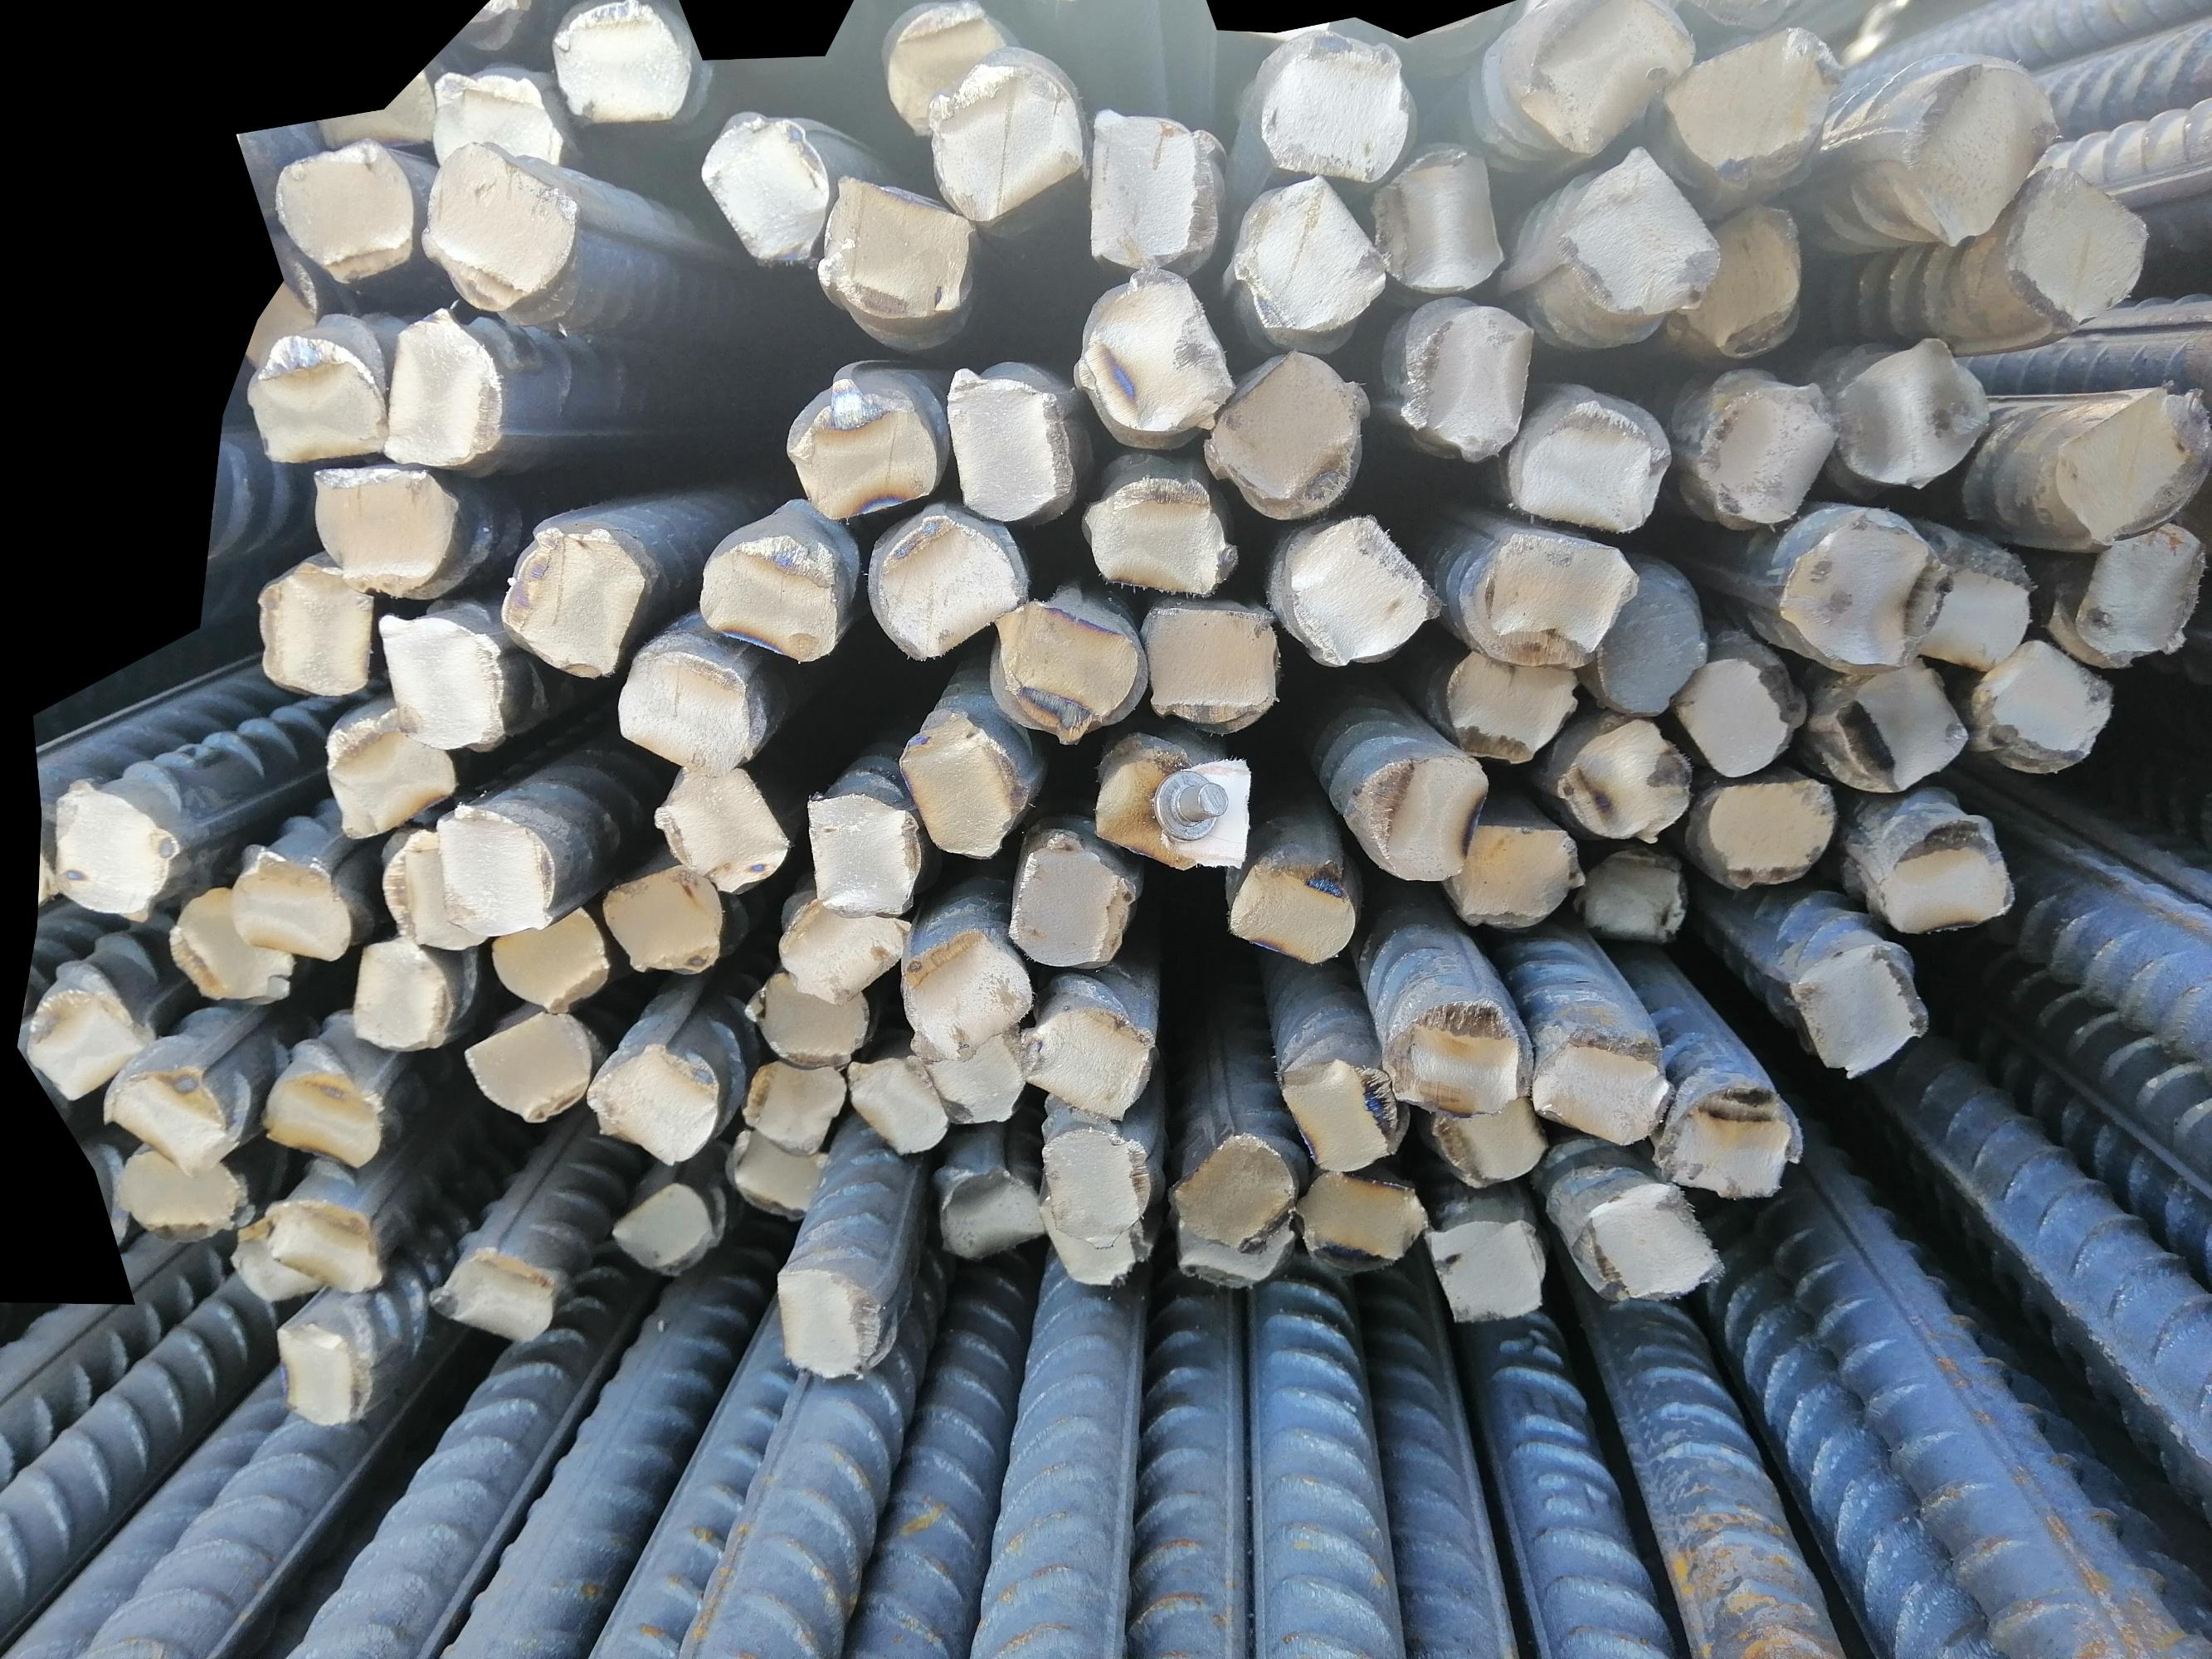bar: (1895, 52, 2069, 251), (1490, 2, 1708, 159), (1536, 143, 1720, 326), (1762, 498, 1954, 674), (1665, 14, 1851, 188), (1203, 350, 1372, 525), (1072, 265, 1234, 446), (415, 141, 577, 319), (1227, 174, 1393, 343), (929, 47, 1089, 220), (1830, 333, 2005, 491), (811, 173, 981, 333), (1246, 24, 1417, 183), (872, 500, 1030, 666), (2053, 378, 2210, 544), (1276, 514, 1445, 664), (1778, 932, 1942, 1086), (1496, 394, 1670, 535), (2005, 159, 2149, 328), (1468, 525, 1637, 666), (1693, 375, 1839, 537), (992, 589, 1143, 744), (1672, 197, 1813, 361), (1403, 296, 1539, 464), (497, 519, 643, 674), (695, 110, 838, 268), (305, 462, 464, 605), (370, 303, 507, 467), (788, 376, 945, 519), (899, 701, 1035, 864), (1081, 106, 1215, 272), (275, 131, 415, 289), (615, 631, 765, 777), (1333, 742, 1489, 884), (366, 599, 507, 753), (1811, 660, 1971, 795), (943, 359, 1072, 525), (1006, 814, 1142, 969), (699, 528, 847, 669), (1867, 809, 2020, 943), (1077, 465, 1236, 594), (2071, 518, 2210, 664), (1135, 596, 1283, 732), (1909, 523, 2034, 683), (1374, 139, 1506, 291), (1569, 1183, 1726, 1309), (1672, 638, 1811, 777), (1975, 638, 2114, 777), (246, 329, 387, 467), (1656, 1070, 1801, 1204), (1588, 563, 1712, 720), (894, 918, 1041, 1051), (655, 756, 788, 897), (1381, 993, 1536, 1114), (547, 0, 692, 127), (51, 777, 178, 922), (251, 552, 377, 699), (1529, 1026, 1677, 1150), (1555, 711, 1694, 842), (1013, 999, 1157, 1122), (321, 699, 450, 836), (425, 63, 568, 186), (884, 0, 1011, 138), (1157, 1129, 1302, 1249), (1224, 843, 1360, 971), (800, 788, 927, 920), (1272, 1047, 1405, 1175), (99, 1054, 234, 1180), (429, 800, 553, 936), (462, 1004, 594, 1129), (1442, 643, 1576, 767), (584, 1040, 720, 1162), (1089, 742, 1217, 871), (254, 1061, 392, 1180), (169, 884, 295, 1012), (1035, 1117, 1159, 1248), (1438, 814, 1579, 927), (228, 842, 356, 965), (1698, 775, 1839, 885), (594, 861, 725, 979), (24, 983, 155, 1100), (903, 1012, 1034, 1129), (483, 903, 615, 1016), (777, 890, 912, 1002), (1290, 1168, 1429, 1274), (1424, 1220, 1551, 1331), (373, 826, 483, 955), (772, 1258, 887, 1380), (113, 1145, 254, 1244), (429, 1239, 565, 1342), (256, 1194, 387, 1293), (744, 967, 870, 1070), (1032, 1201, 1157, 1304), (352, 934, 458, 1053), (837, 1049, 950, 1159), (267, 1312, 373, 1427), (1428, 1094, 1551, 1190), (737, 1054, 851, 1155), (929, 1162, 1044, 1262), (607, 1180, 725, 1276), (722, 1121, 830, 1222), (1578, 847, 1687, 946), (1171, 1216, 1302, 1297), (218, 1211, 321, 1305)
